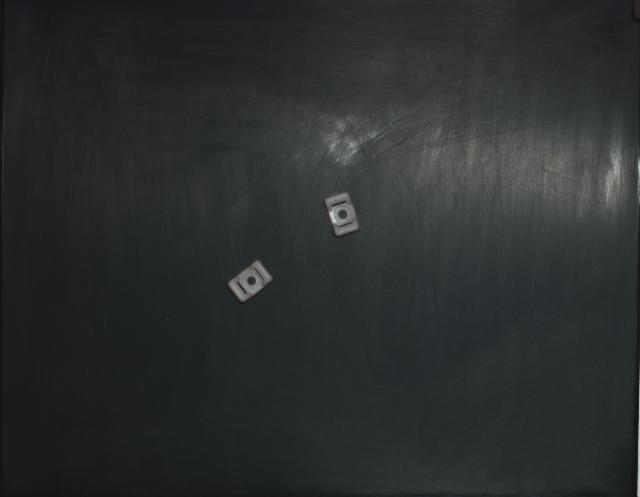first_side: (229, 261, 272, 302), (325, 192, 360, 236)
